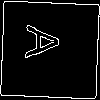A: (25, 24, 69, 61)
